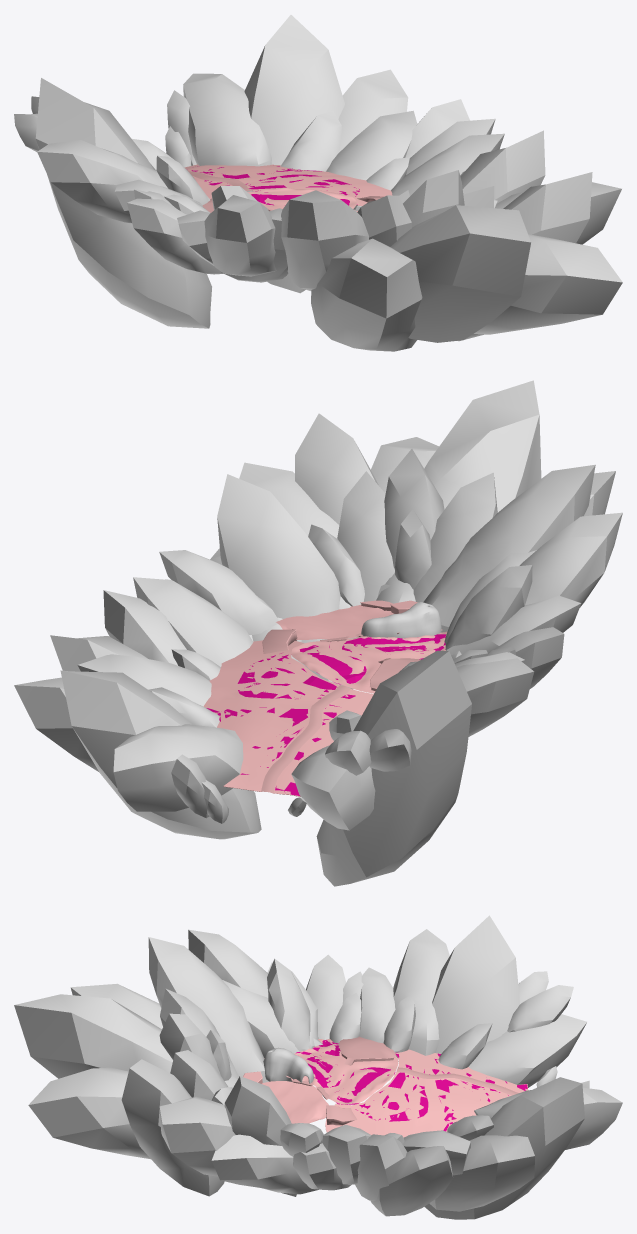
Rendered from BiomeRepulseGround.fbx.
The picture shows the model from 3 angles, top to bottom: view 1: azimuth 30°, elevation 25°; view 2: azimuth 150°, elevation 25°; view 3: azimuth 270°, elevation 25°; orthographic projection. The views are drawn at different scales.
Parts seen in each view (by area): view 1: Pic.028, Pic.003, Pic.001, Pic.027, Pic.002, Pic, Pic.015, Pic.005, Pic.006, Pic.020, Pic.021, Grounde1.4 (+23 smaller); view 2: Pic.028, Grounde1.4, Pic.021, Pic.027, Pic.003, Pic.015, Pic, Pic.006, Pic.023, Pic.020, Pic.018, Pic.034 (+32 smaller); view 3: Pic.003, Pic.028, Grounde1.4, Pic.002, Pic.027, Pic.015, Pic.020, Pic.026, Pic.004, Pic.005, Pic.019, Pic.007 (+35 smaller).
Part boxes in pixels (left/top/right/bottom): Pic.028: left=35, top=78, right=211, bottom=328; Pic.003: left=390, top=205, right=531, bottom=342; Pic.001: left=311, top=238, right=422, bottom=351; Pic.027: left=244, top=15, right=344, bottom=293; Pic.002: left=474, top=234, right=622, bottom=334; Pic: left=183, top=73, right=271, bottom=166; Pic.015: left=281, top=190, right=368, bottom=290; Pic.005: left=37, top=140, right=167, bottom=223; Pic.006: left=204, top=195, right=276, bottom=276; Pic.020: left=457, top=172, right=592, bottom=341; Pic.021: left=460, top=130, right=545, bottom=203; Grounde1.4: left=184, top=164, right=392, bottom=205; Pic.028: left=316, top=650, right=471, bottom=886; Grounde1.4: left=203, top=640, right=373, bottom=796; Pic.021: left=217, top=474, right=352, bottom=689; Pic.027: left=60, top=670, right=261, bottom=839; Pic.003: left=376, top=380, right=541, bottom=603; Pic.015: left=423, top=464, right=595, bottom=632; Pic: left=113, top=724, right=243, bottom=811; Pic.006: left=519, top=512, right=622, bottom=607; Pic.023: left=133, top=577, right=253, bottom=666; Pic.020: left=295, top=413, right=378, bottom=524; Pic.018: left=337, top=471, right=394, bottom=601; Pic.034: left=159, top=550, right=278, bottom=634; Pic.003: left=14, top=994, right=237, bottom=1087; Pic.028: left=432, top=915, right=519, bottom=1053; Grounde1.4: left=325, top=1049, right=528, bottom=1137; Pic.002: left=28, top=1067, right=232, bottom=1159; Pic.027: left=424, top=1077, right=584, bottom=1219; Pic.015: left=148, top=937, right=268, bottom=1082; Pic.020: left=121, top=1059, right=224, bottom=1196; Pic.026: left=429, top=1135, right=534, bottom=1211; Pic.004: left=468, top=1014, right=586, bottom=1087; Pic.005: left=393, top=929, right=449, bottom=1055; Pic.019: left=159, top=1096, right=235, bottom=1176; Pic.007: left=211, top=1134, right=318, bottom=1194.
Bounding box in the file's own units: 760 × 448 × 1097.
